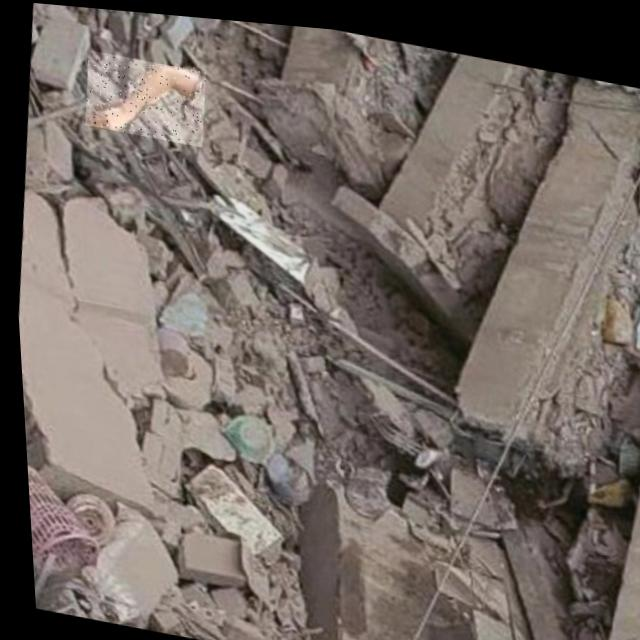Person in Rubble: (79, 47, 207, 144)
